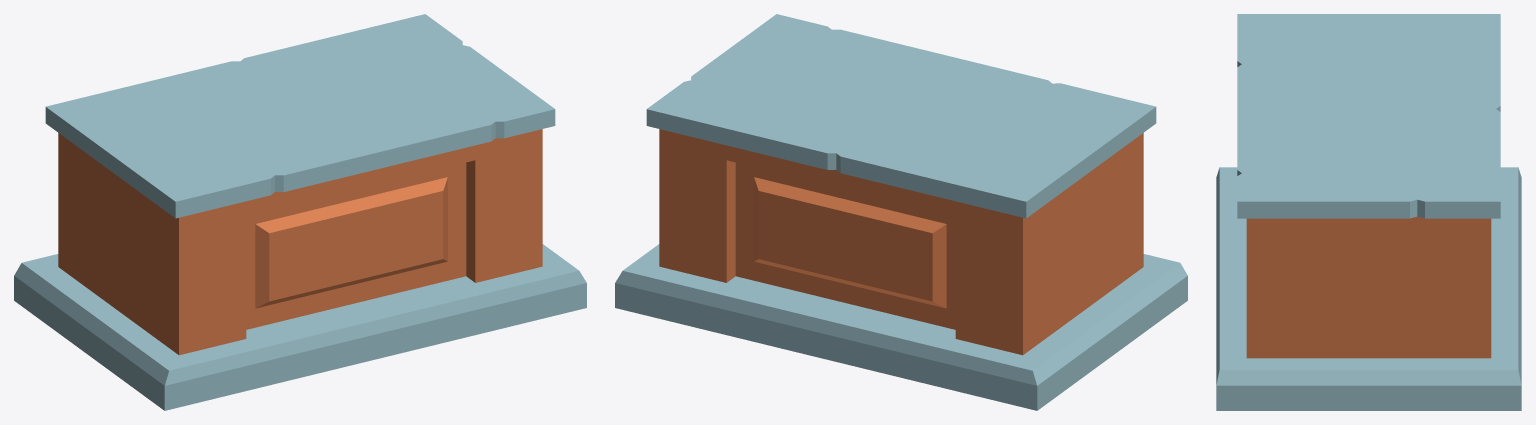
File: altarWood.dae
3 views of the same model, side by side, from view 1: azimuth 30°, elevation 25°; view 2: azimuth 150°, elevation 25°; view 3: azimuth 270°, elevation 25° (orthographic).
Parts seen in each view (by area): view 1: altarWood; view 2: altarWood; view 3: altarWood.
Part boxes in pixels (bbox=[...]): altarWood: bbox=[14, 14, 586, 410]; altarWood: bbox=[615, 14, 1187, 410]; altarWood: bbox=[1216, 14, 1521, 410].
Size of the model in its own units: 1.06 by 0.47 by 0.6532.
